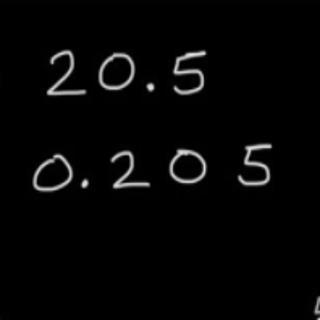.: (77, 172, 95, 193), (143, 78, 155, 94)
0: (160, 143, 211, 186), (29, 148, 74, 195), (97, 42, 135, 93)
2: (38, 45, 87, 96), (109, 147, 153, 194)
5: (233, 133, 275, 188), (165, 48, 209, 98)
